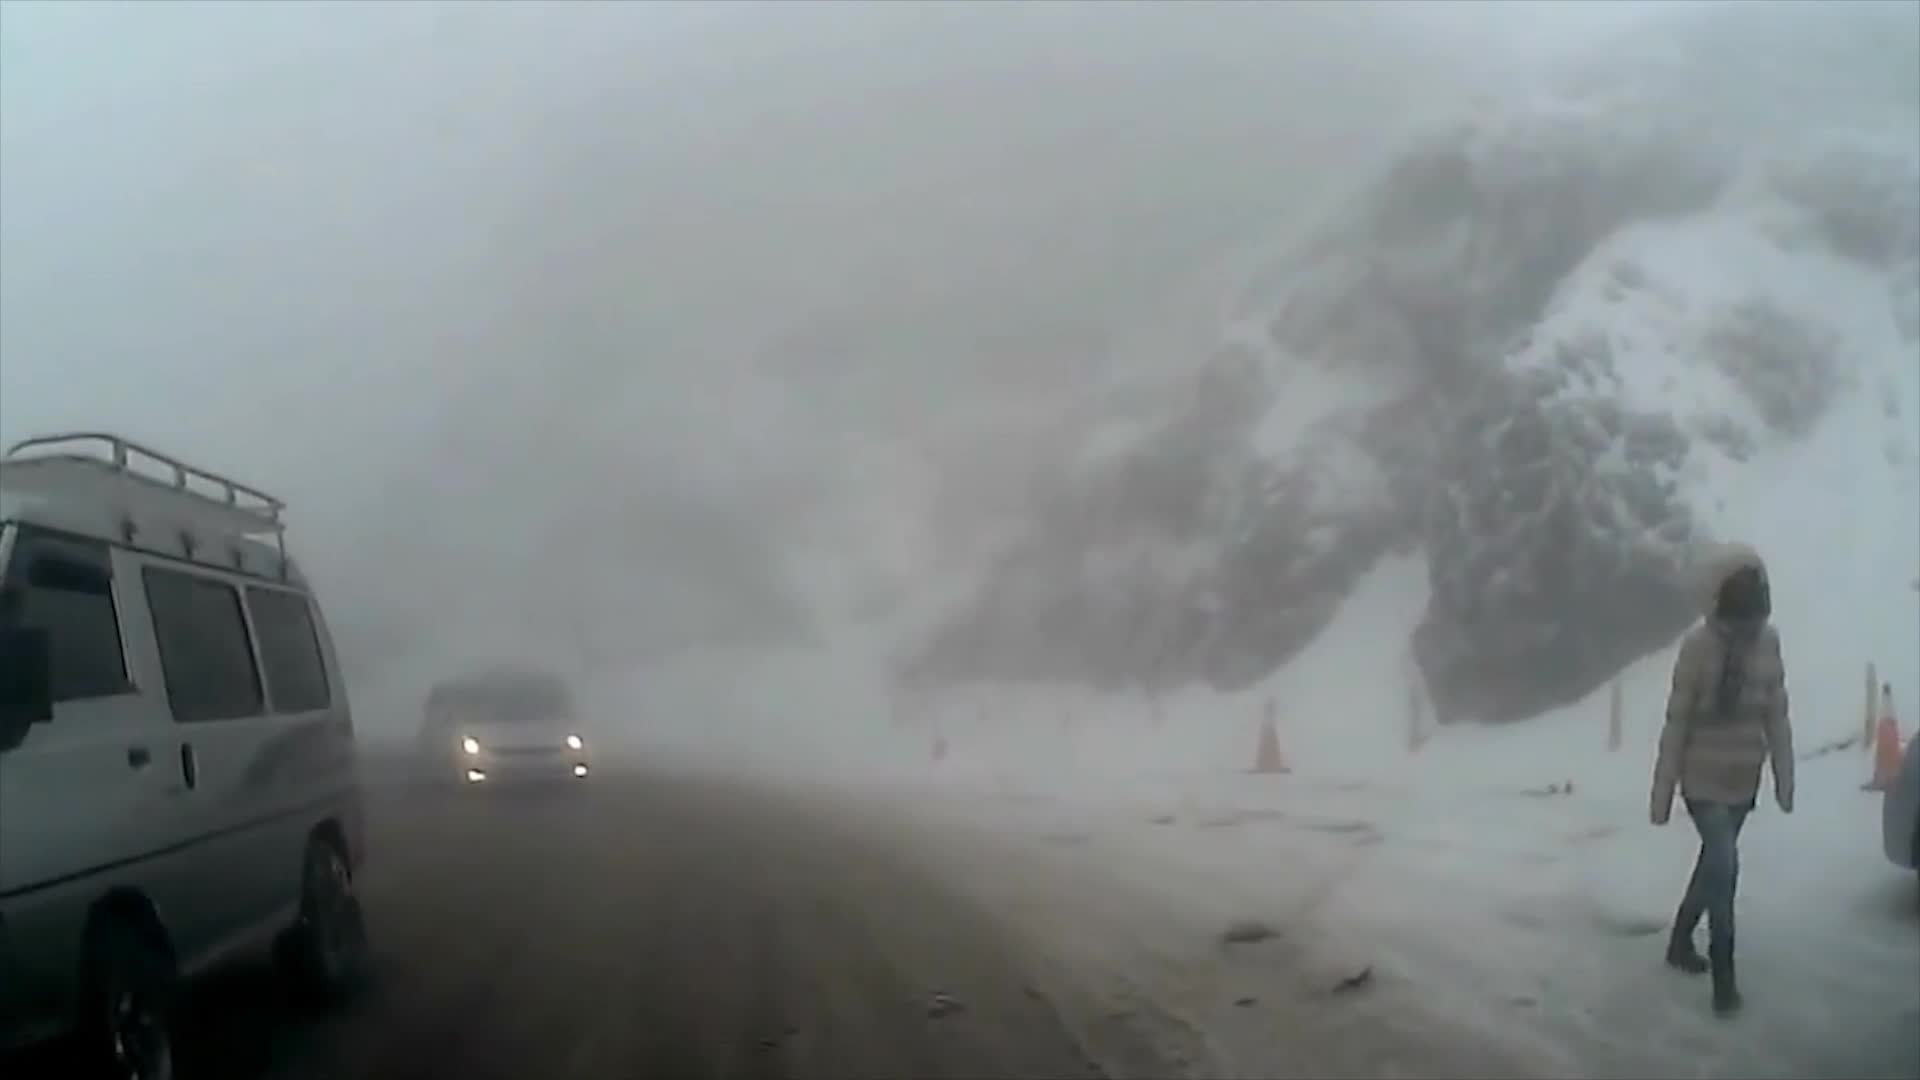pedestrian: (1648, 538, 1798, 1017)
vehicle: (0, 428, 377, 1080), (416, 672, 595, 802)
